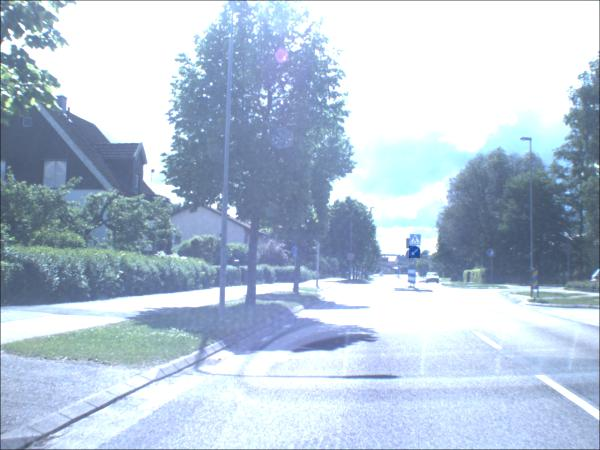NO_PARKING: (347, 254, 355, 262)
PASS_RIGHT_SIDE: (409, 247, 421, 260)
PEDESTRIAN_CROSSING: (410, 236, 421, 247)
